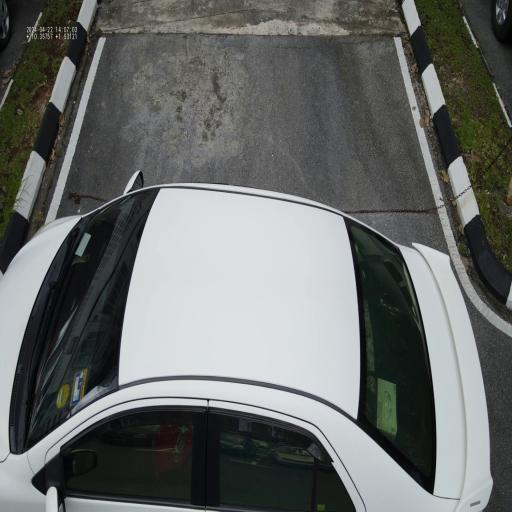Illegal: (0, 166, 494, 512)
